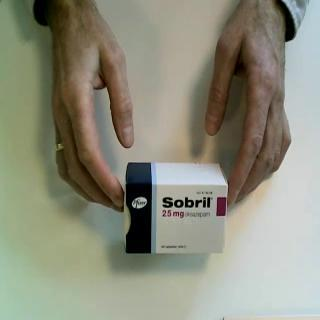sobril25mg: (123, 160, 229, 256)
